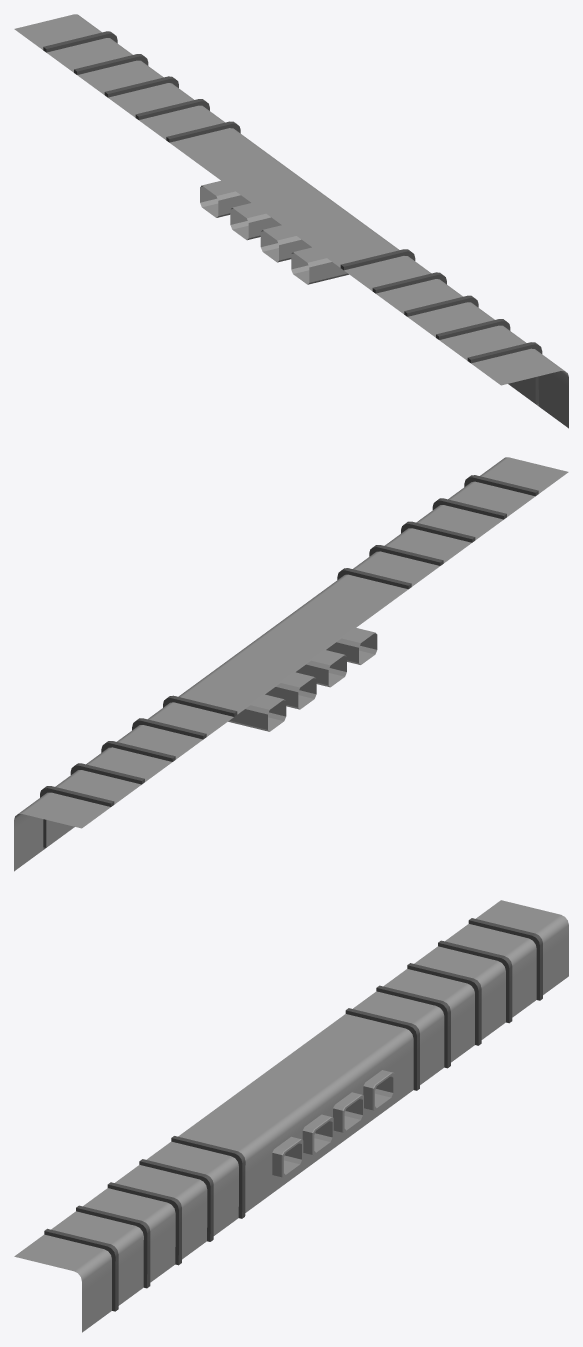
File: Duct_2.fbx
3 renders of one model, top to bottom at view 1: azimuth 30°, elevation 25°; view 2: azimuth 150°, elevation 25°; view 3: azimuth 330°, elevation 25°, orthographic.
Parts seen in each view (by area): view 1: polySurface6; view 2: polySurface6; view 3: polySurface6.
Part boxes in pixels (x1=…): polySurface6: x1=14, y1=14, x2=568, y2=428; polySurface6: x1=14, y1=457, x2=568, y2=871; polySurface6: x1=14, y1=900, x2=568, y2=1332.
Size of the model in its own units: 372 by 287 by 4007.
